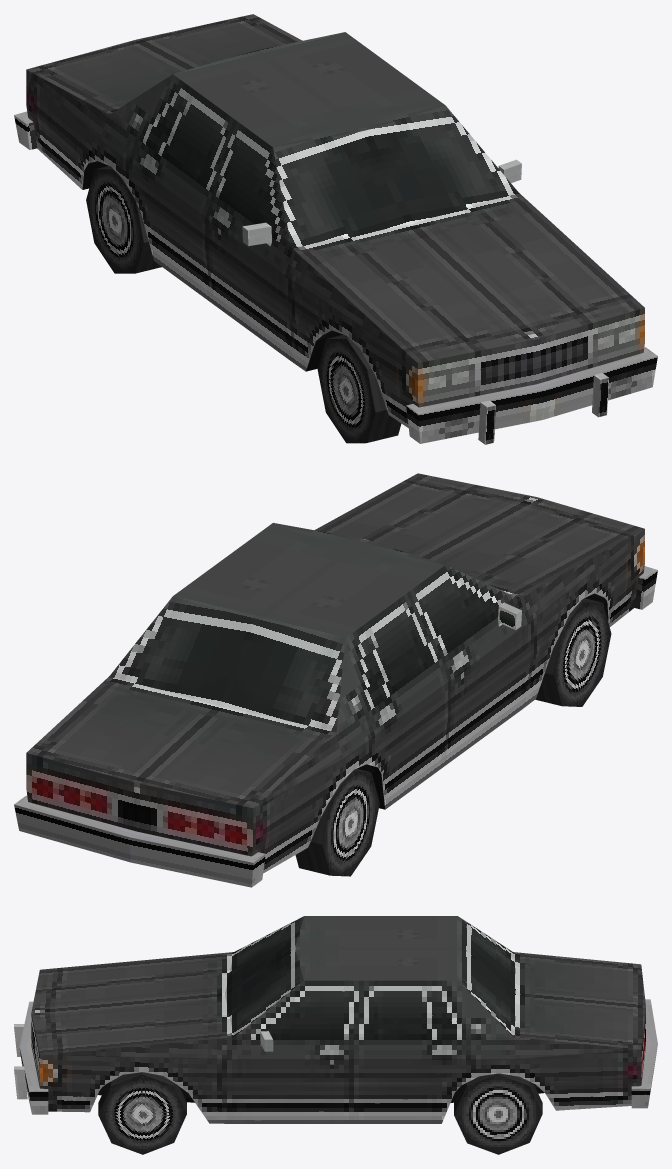
The model's file is car5-grey.glb.
3 renders of one model, top to bottom at view 1: azimuth 30°, elevation 25°; view 2: azimuth 150°, elevation 25°; view 3: azimuth 270°, elevation 25°, orthographic. The views are drawn at different scales.
Parts seen in each view (by area): view 1: Car5; view 2: Car5; view 3: Car5.
Part boxes in pixels (x1,y1,x2,y2): Car5: [14, 14, 657, 444]; Car5: [14, 473, 657, 887]; Car5: [14, 916, 657, 1154].
Bounding box in the file's own units: 2.78 × 2.05 × 7.37.
1 material, 1 textured.
